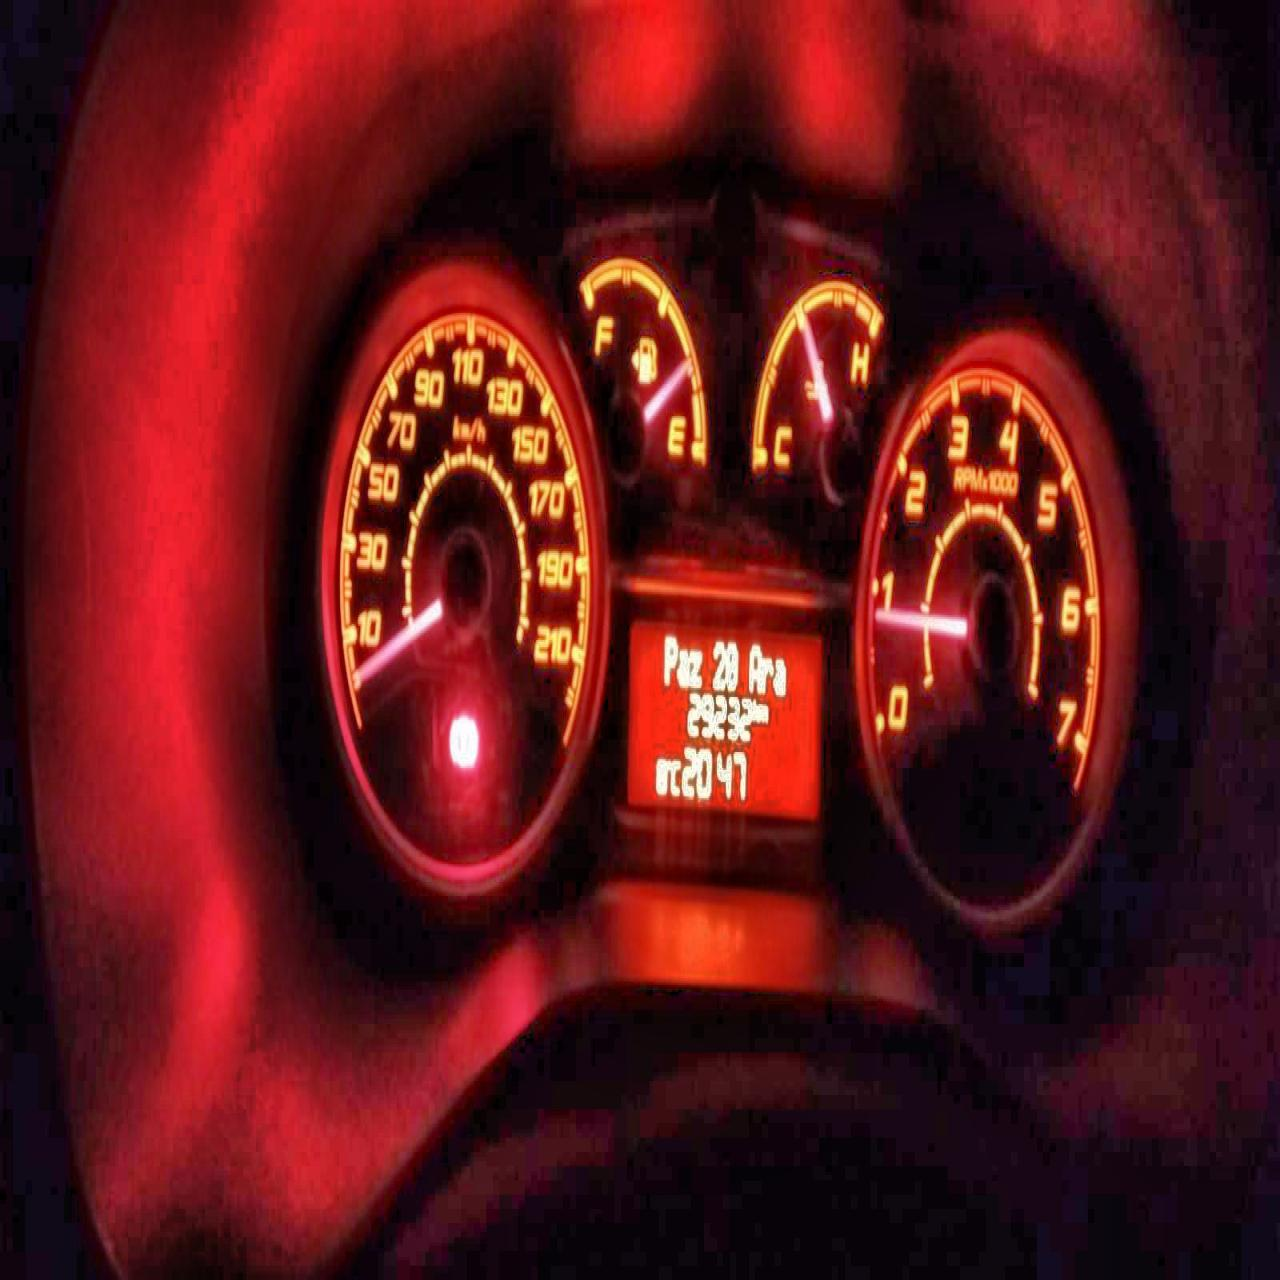0: (696, 743, 712, 798), (724, 634, 738, 692)
2: (681, 743, 695, 798), (712, 636, 724, 689), (740, 692, 751, 742), (714, 689, 726, 740), (687, 688, 700, 733)
3: (727, 694, 738, 742)
4: (715, 750, 733, 799)
7: (734, 748, 747, 802)
9: (700, 692, 714, 740)
X: (748, 641, 762, 693), (663, 633, 676, 685), (774, 654, 789, 696), (689, 646, 702, 687), (669, 750, 680, 797), (678, 645, 688, 689), (762, 651, 771, 697)
odometer: (624, 619, 822, 826)
